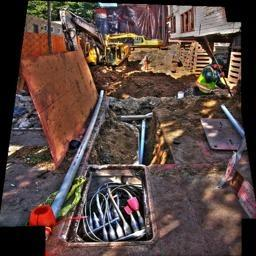no hat: (212, 54, 229, 75)
vest: (194, 66, 223, 105)
